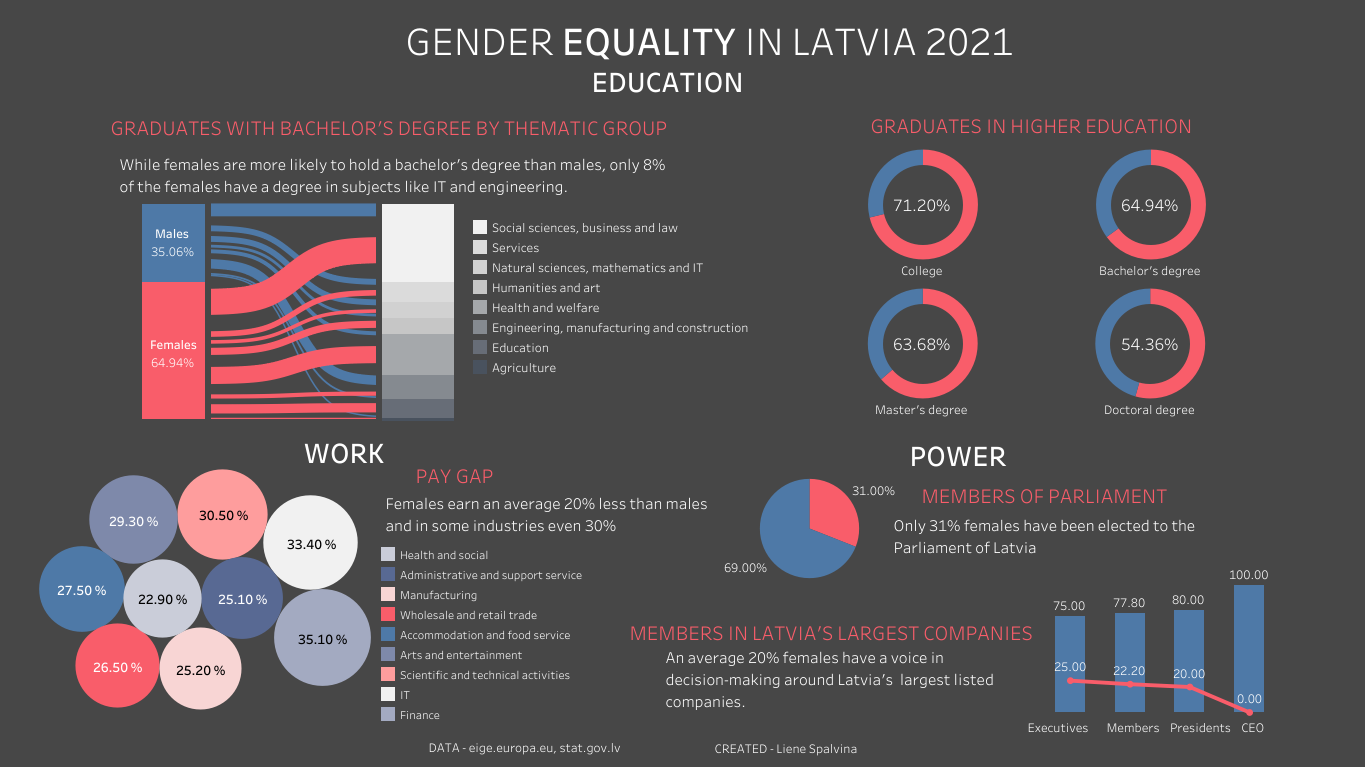

Layout of this report page (visuals, bound fields, positions):
{"tool":"tableau","page":{"name":"Gender equality in Latvia 2021","canvas":[1366,768],"ordinal":0},"visuals":[{"type":"text","box":[383,8,653,63]},{"type":"text","box":[589,65,167,32]},{"type":"text","box":[868,112,332,26]},{"type":"text","box":[108,115,604,25]},{"type":"worksheet","title":"Education degree 1","mark":"Pie","rows":["Calculation_909164192850288706","Calculation_909164192850288706"],"cols":["Level"],"box":[809,126,456,157]},{"type":"text","box":[117,150,555,49]},{"type":"worksheet","title":"Education thematic group","mark":"Line","box":[211,179,171,251]},{"type":"worksheet","title":"Education difference","mark":"Automatic","rows":["Students"],"box":[131,193,115,226]},{"type":"worksheet","title":"Thematic groups","mark":"Automatic","rows":["Students"],"box":[370,193,96,228]},{"type":"legend","title":"Thematic groups","param":"[federated.1nkls9m0sjvfq615tha2i18xxsdi].[none:Education thematic group:nk]","box":[470,217,298,186]},{"type":"worksheet","title":"Education degree 2","mark":"Pie","rows":["Calculation_909164192850288706","Calculation_909164192850288706"],"cols":["Level"],"box":[809,263,455,161]},{"type":"text","box":[301.3,437.5,131.7,28]},{"type":"worksheet","title":"Parliament","mark":"Pie","box":[713,439,193,179]},{"type":"text","box":[907,442,129,26]},{"type":"text","box":[413,463,127,25]},{"type":"text","box":[919,483,269,25]},{"type":"text","box":[383,484,347,60]},{"type":"text","box":[891,498,351,76]},{"type":"legend","title":"Pay gap between professions","param":"[federated.0wqsgvq0nkb76x17jtxae1c3kqv8].[none:F1:nk]","box":[378,544,354,180]},{"type":"worksheet","title":"Companies","mark":"Bar","rows":["Men","Women"],"cols":["F1"],"box":[1040,561,239,160]},{"type":"text","box":[627,617,418,31]},{"type":"text","box":[663,646,375,66]},{"type":"text","box":[1025,714,320,25]},{"type":"text","box":[426.2,734.1,250.4,25.5]},{"type":"text","box":[712.1,734.9,188.5,25.5]}]}

Visuals, with their boxes in screenshot pixels (x1, y1, x2, y2), scaled from the page's 1366x768 canvas onto the 1365x767 screenshot:
text: (383,8,1035,71)
text: (589,65,755,97)
text: (867,112,1199,138)
text: (108,115,711,140)
"Education degree 1" worksheet (Pie marks): (808,126,1264,283)
text: (117,150,672,199)
"Education thematic group" worksheet (Line marks): (211,179,382,429)
"Education difference" worksheet: (131,193,246,418)
"Thematic groups" worksheet: (370,193,466,420)
"Thematic groups" legend: (470,217,767,402)
"Education degree 2" worksheet (Pie marks): (808,263,1263,423)
text: (301,437,433,465)
"Parliament" worksheet (Pie marks): (712,438,905,617)
text: (906,441,1035,467)
text: (413,462,540,487)
text: (918,482,1187,507)
text: (383,483,729,543)
text: (890,497,1241,573)
"Pay gap between professions" legend: (378,543,731,723)
"Companies" worksheet (Bar marks): (1039,560,1278,720)
text: (627,616,1044,647)
text: (663,645,1037,711)
text: (1024,713,1344,738)
text: (426,733,676,759)
text: (712,734,900,759)
